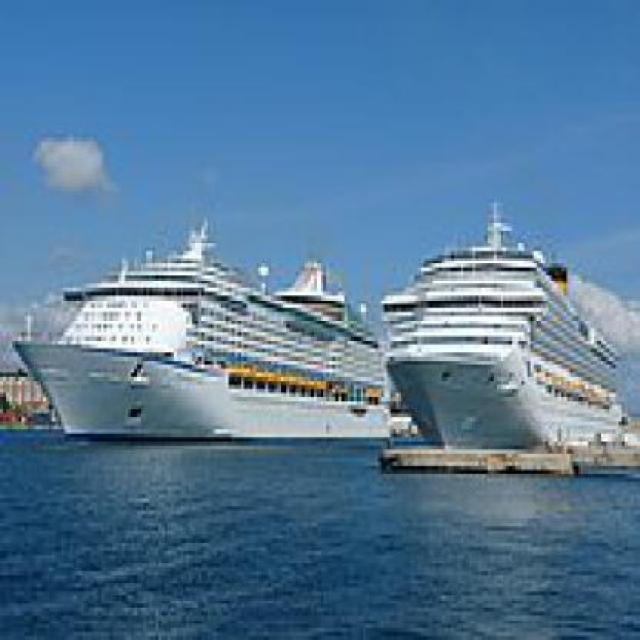cruise: (1, 212, 404, 456), (376, 196, 630, 459)
